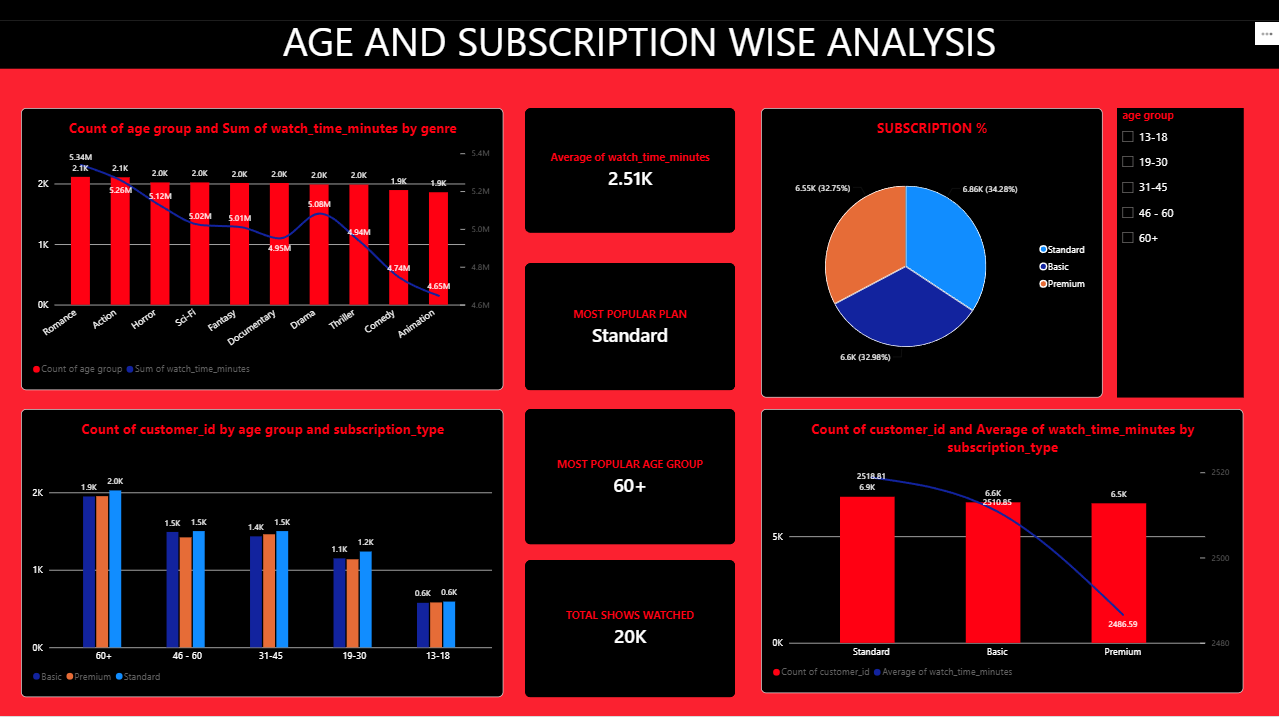

The page's visual inventory and layout, read from the dashboard file:
{"tool":"powerbi","page":{"name":"Page 5","canvas":[1920,1080],"ordinal":5},"visuals":[{"type":"textbox","box":[0,26.3,1920,81.7],"z":0},{"type":"textbox","box":[0,0,1920.3,37.7],"z":1000},{"type":"lineClusteredColumnComboChart","fields":{"Category":["netflix_dataset_20000 csv.genre"],"Y":["CountNonNull(netflix_customer_ratings_20000.age group)"],"Y2":["Sum(netflix_customer_ratings_20000.watch_time_minutes)"]},"box":[32.3,168.3,723.1,422.8],"z":2000},{"type":"pieChart","title":"SUBSCRIPTION %","fields":{"Category":["netflix_customer_ratings_20000.subscription_type"],"Y":["Count(netflix_customer_ratings_20000.customer_id)"]},"box":[1141.9,168.3,511.7,433.6],"z":3000},{"type":"clusteredColumnChart","fields":{"Category":["netflix_customer_ratings_20000.age group"],"Y":["Count(netflix_customer_ratings_20000.customer_id)"],"Series":["netflix_customer_ratings_20000.subscription_type"]},"box":[32.3,619.5,723.1,432.3],"z":4000},{"type":"lineClusteredColumnComboChart","fields":{"Category":["netflix_customer_ratings_20000.subscription_type"],"Y":["CountNonNull(netflix_customer_ratings_20000.customer_id)"],"Y2":["Avg(netflix_customer_ratings_20000.watch_time_minutes)"]},"box":[1141.9,619.5,723.1,425.5],"z":5000},{"type":"cardVisual","fields":{"Data":["Avg(netflix_customer_ratings_20000.watch_time_minutes)"]},"box":[789.1,168.3,315.1,187.2],"z":6000},{"type":"cardVisual","fields":{"Data":["Max(netflix_customer_ratings_20000.subscription_type)"]},"box":[789.1,400,315.1,191.2],"z":7000},{"type":"cardVisual","fields":{"Data":["netflix_customer_ratings_20000.TOTAL SHOWS WATCHED"]},"box":[789.1,845.7,315.1,206],"z":8000},{"type":"cardVisual","fields":{"Data":["Max(netflix_customer_ratings_20000.age group)"]},"box":[789.1,619.5,315.1,203.3],"z":9000},{"type":"slicer","fields":{"Values":["netflix_customer_ratings_20000.age group"]},"box":[1675.2,168.3,189.9,433.6],"z":10000}]}

Visuals, with their boxes in screenshot pixels (x1, y1, x2, y2), scaled from the page's 1920x1080 canvas onto the 1279x717 screenshot:
textbox: <region>0, 17, 1278, 72</region>
textbox: <region>0, 0, 1278, 25</region>
lineClusteredColumnComboChart - netflix_dataset_20000 csv.genre x CountNonNull(netflix_customer_ratings_20000.age group): <region>22, 112, 503, 392</region>
"SUBSCRIPTION %" pieChart: <region>761, 112, 1102, 400</region>
clusteredColumnChart - netflix_customer_ratings_20000.age group x Count(netflix_customer_ratings_20000.customer_id): <region>22, 411, 503, 698</region>
lineClusteredColumnComboChart - netflix_customer_ratings_20000.subscription_type x CountNonNull(netflix_customer_ratings_20000.customer_id): <region>761, 411, 1242, 694</region>
cardVisual - Avg(netflix_customer_ratings_20000.watch_time_minutes): <region>526, 112, 736, 236</region>
cardVisual - Max(netflix_customer_ratings_20000.subscription_type): <region>526, 266, 736, 392</region>
cardVisual - netflix_customer_ratings_20000.TOTAL SHOWS WATCHED: <region>526, 561, 736, 698</region>
cardVisual - Max(netflix_customer_ratings_20000.age group): <region>526, 411, 736, 546</region>
slicer - netflix_customer_ratings_20000.age group: <region>1116, 112, 1242, 400</region>
